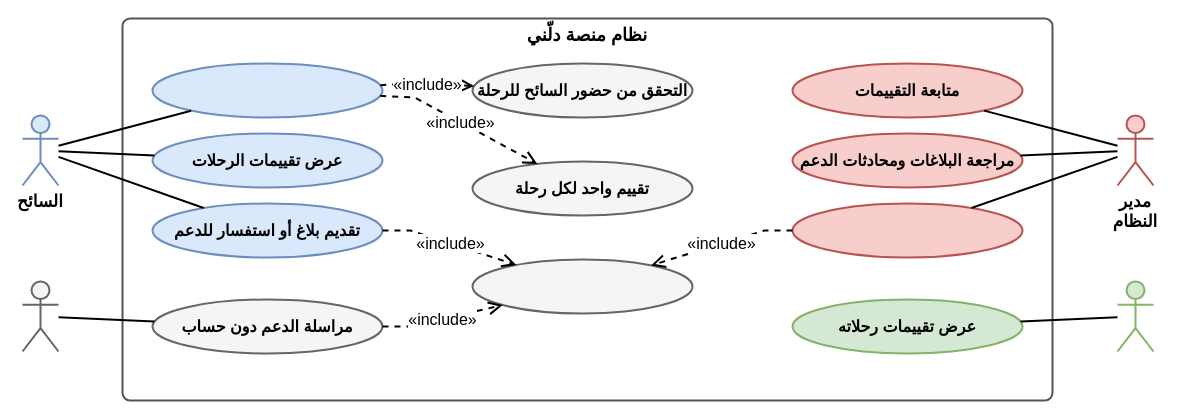
Some shapes in this 1182 by 418 pixel diagram are drawn without their labels. Each missing label, with the centre of its shape:
"إشعار الطرف الآخر" belongs at (582,286).
"الرد على البلاغ" belongs at (907,230).
"الزائر" belongs at (40,316).
"المرشد السياحي" belongs at (1135,316).
"تقييم رحلة يومية أو أسبوعية" belongs at (267,90).
